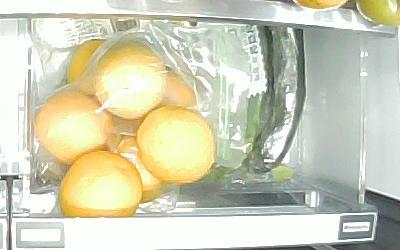orange: (136, 106, 217, 184), (36, 90, 115, 164), (60, 149, 143, 218)
orange_vinyl: (95, 39, 166, 119), (114, 135, 164, 202), (147, 64, 198, 117), (65, 40, 111, 98)
